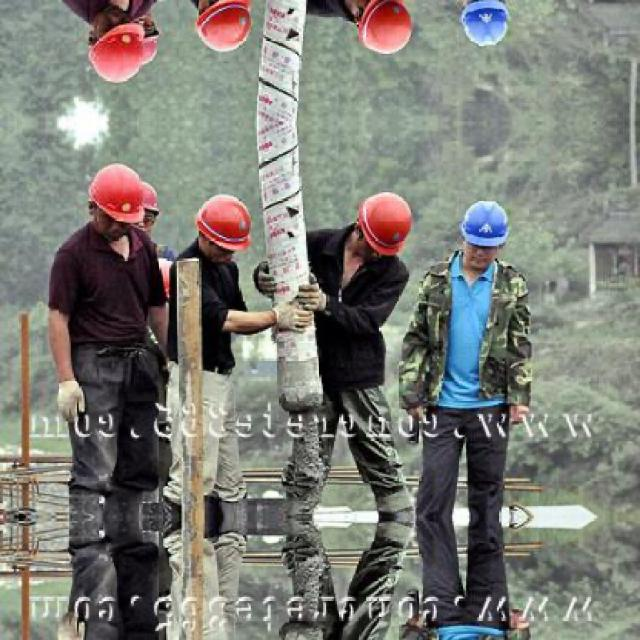helmet: (80, 154, 146, 248), (80, 0, 148, 91), (190, 188, 256, 262), (356, 188, 422, 255), (457, 195, 511, 271), (355, 0, 423, 57), (189, 0, 257, 57), (457, 0, 512, 49), (120, 3, 162, 62), (120, 182, 162, 240)
